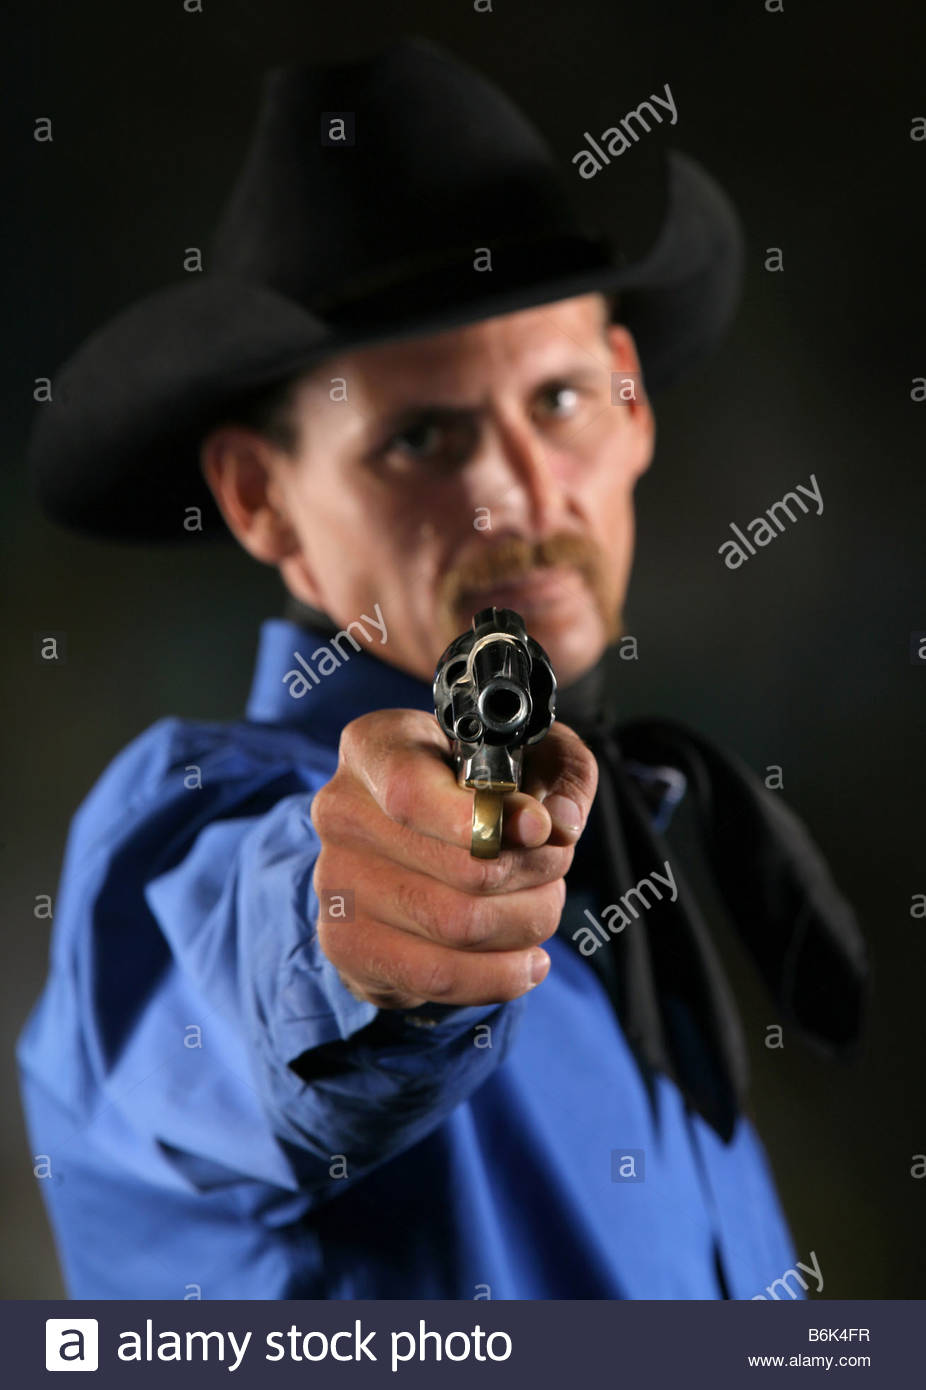Revolver: (413, 587, 582, 854)
